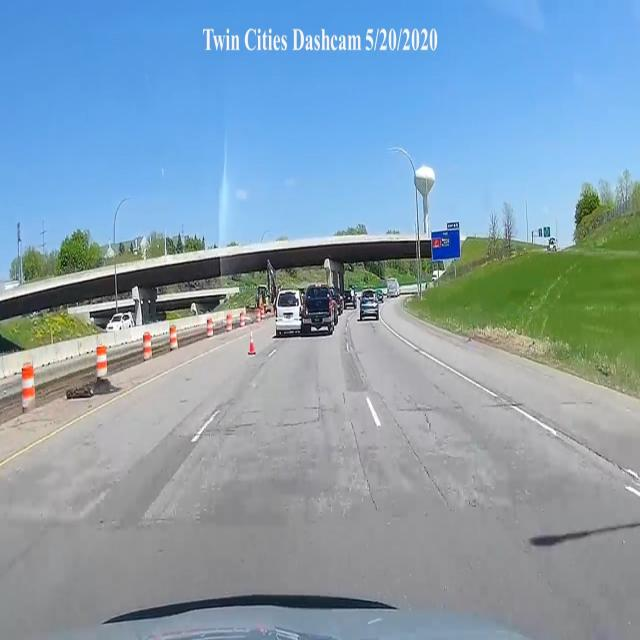cone: (246, 334, 261, 359)
